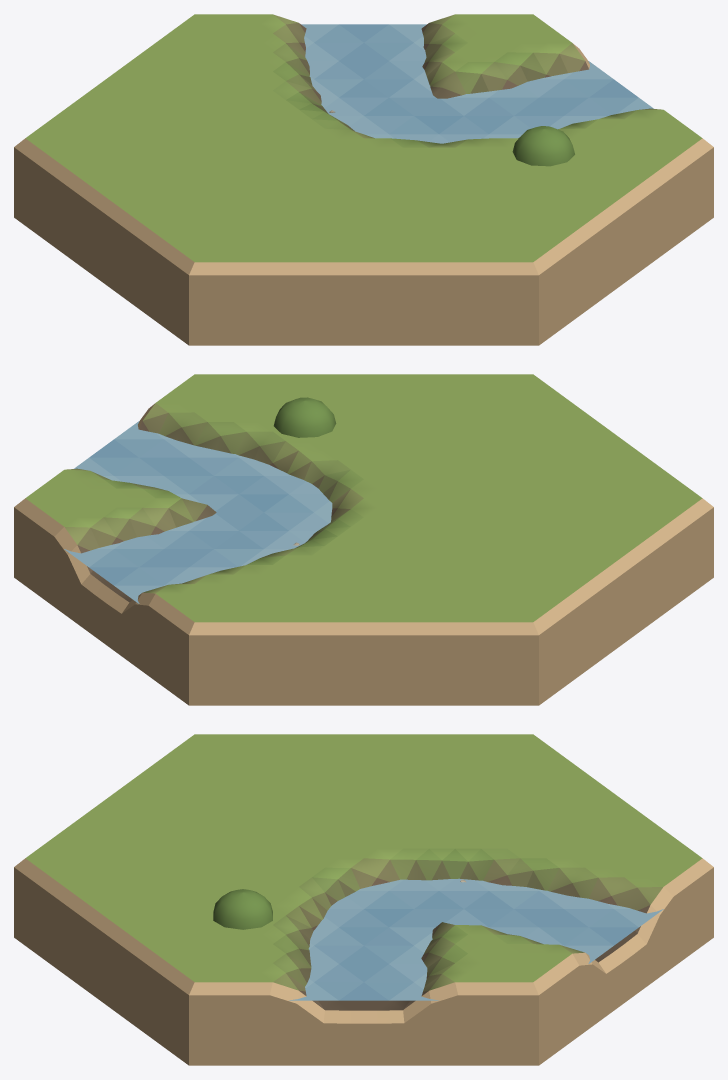
Rendered from river_sharp.fbx.
The picture shows the model from 3 angles, top to bottom: view 1: azimuth 30°, elevation 25°; view 2: azimuth 150°, elevation 25°; view 3: azimuth 270°, elevation 25°; orthographic projection.
Visible parts, largest first — view 1: river_sharp; view 2: river_sharp; view 3: river_sharp.
Part boxes in pixels (x1,y1,x2,y2): river_sharp: (14,14,713,345); river_sharp: (14,374,713,705); river_sharp: (14,734,713,1065).
Bounding box in the file's own units: 1.73 × 0.3265 × 2.
